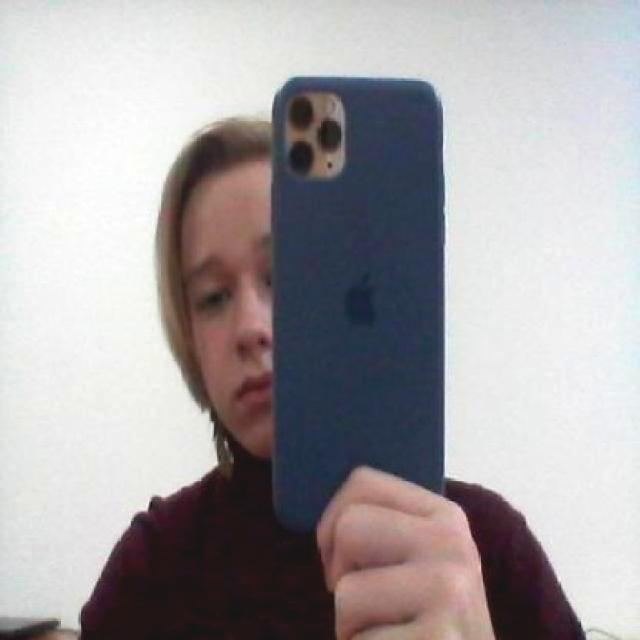lens: (290, 90, 348, 178)
phone: (252, 74, 462, 558)
